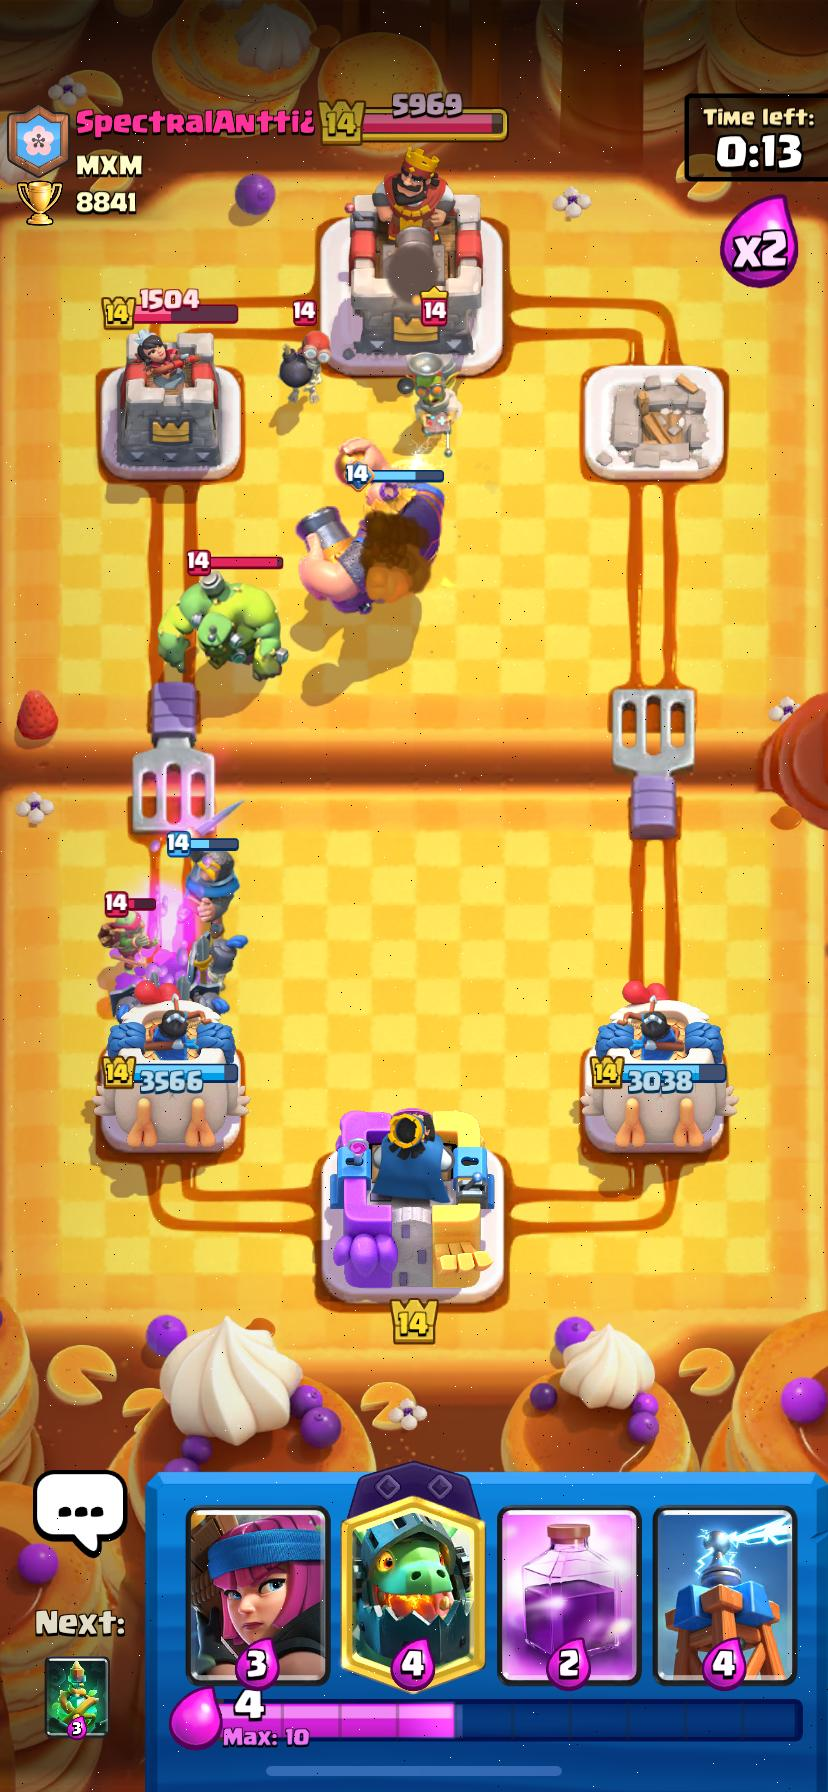EBomber: (279, 331, 329, 402)
EDoctor: (397, 352, 461, 457)
EKingTower: (340, 146, 484, 375)
EMonster: (158, 570, 287, 681)
ESpearGoblin: (98, 910, 158, 975)
EnemyPrincessTower: (99, 330, 241, 481)
OEVRoyalG: (296, 433, 443, 614)
OGuard: (180, 921, 247, 998), (188, 981, 228, 1014), (110, 985, 137, 1023)
OKnight: (182, 848, 238, 926)
OwnKingTower: (321, 1097, 503, 1303)
OwnPrincessTower: (580, 982, 737, 1153), (95, 983, 247, 1151)
TowerDown: (583, 365, 724, 481)
